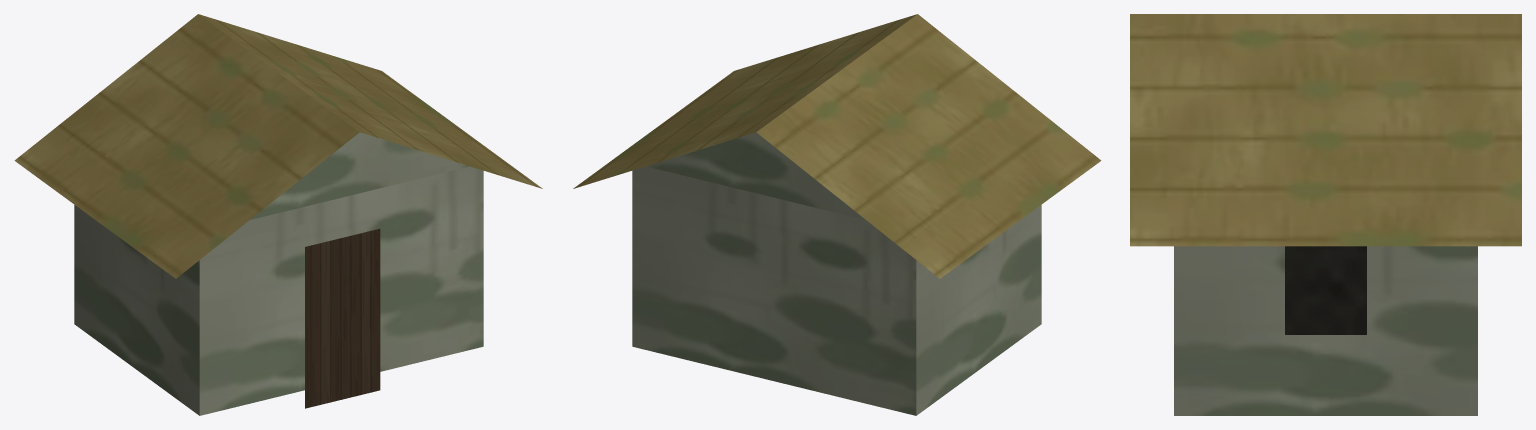
The model's file is ae_jungle_stone_small_booth_lod2.glb.
The picture shows the model from 3 angles, left to right: view 1: azimuth 30°, elevation 25°; view 2: azimuth 150°, elevation 25°; view 3: azimuth 270°, elevation 25°; orthographic projection. The views are drawn at different scales.
Visible parts, largest first — view 1: ae_jungle_stone_small_booth_lod2; view 2: ae_jungle_stone_small_booth_lod2; view 3: ae_jungle_stone_small_booth_lod2.
Part boxes in pixels (x1,y1,x2,y2): ae_jungle_stone_small_booth_lod2: (14,14,542,415); ae_jungle_stone_small_booth_lod2: (573,14,1101,415); ae_jungle_stone_small_booth_lod2: (1130,14,1521,415).
Bounding box in the file's own units: 4.4 × 3.2 × 3.35.
Materials: 1 (1 with a texture image).
